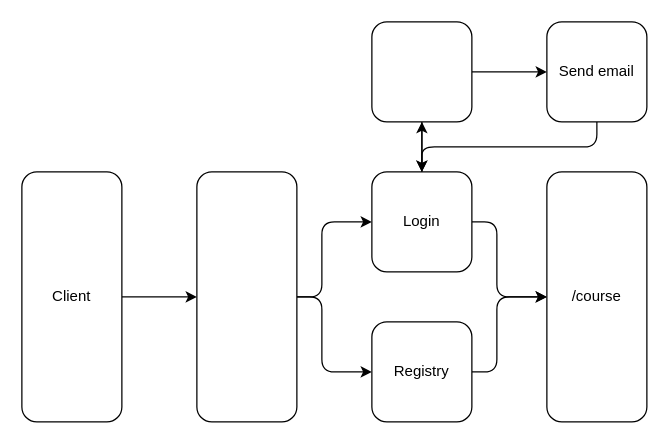
Some shapes in this 669 by 444 pixel diagram are drawn without their labels. Here are the shapes that lost their labels. From the top down, the box of each, then its label:
(371, 21, 472, 122): Forget Password
(196, 171, 297, 422): Auth
